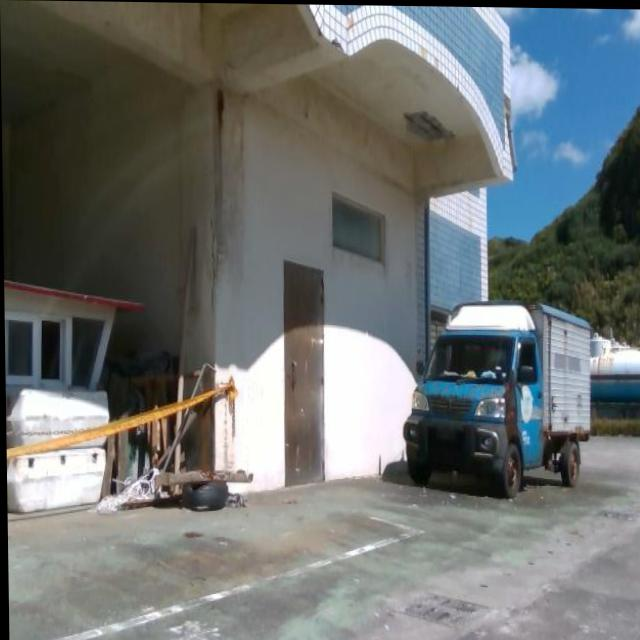pollute: (3, 272, 255, 517)
